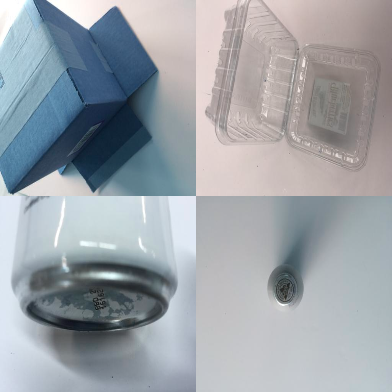cardboard: (1, 1, 159, 193)
metal: (10, 195, 178, 334), (266, 265, 303, 310)
plastic: (205, 1, 381, 170)
